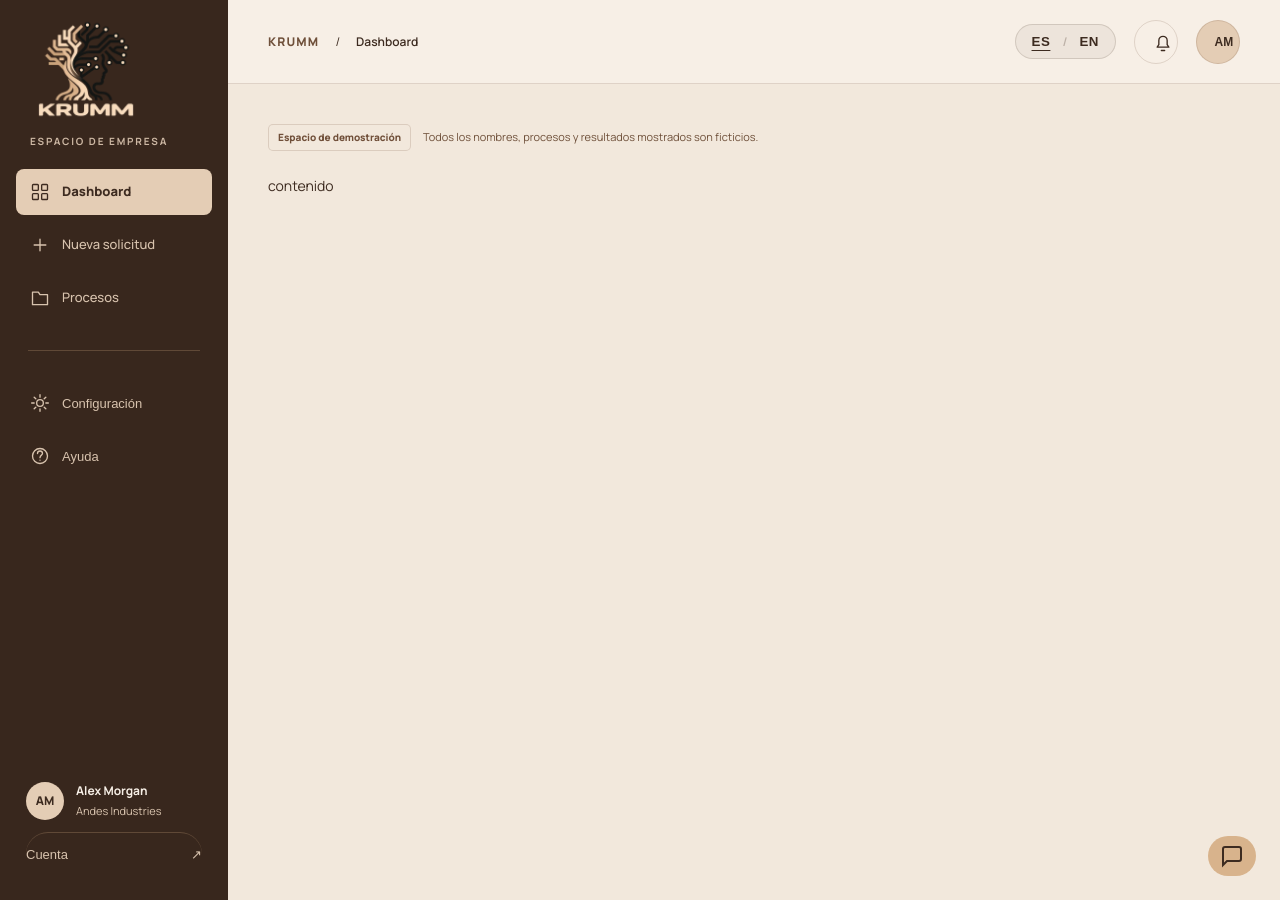
CompanyShell (ref company.html) › Settings/Help/Notifications/Account abren diálogos "próxima etapa" (referencia company.js)
The image size is (1280, 900).
Click the button "Configuración". click: (114, 403)
box: [16, 380, 212, 426]
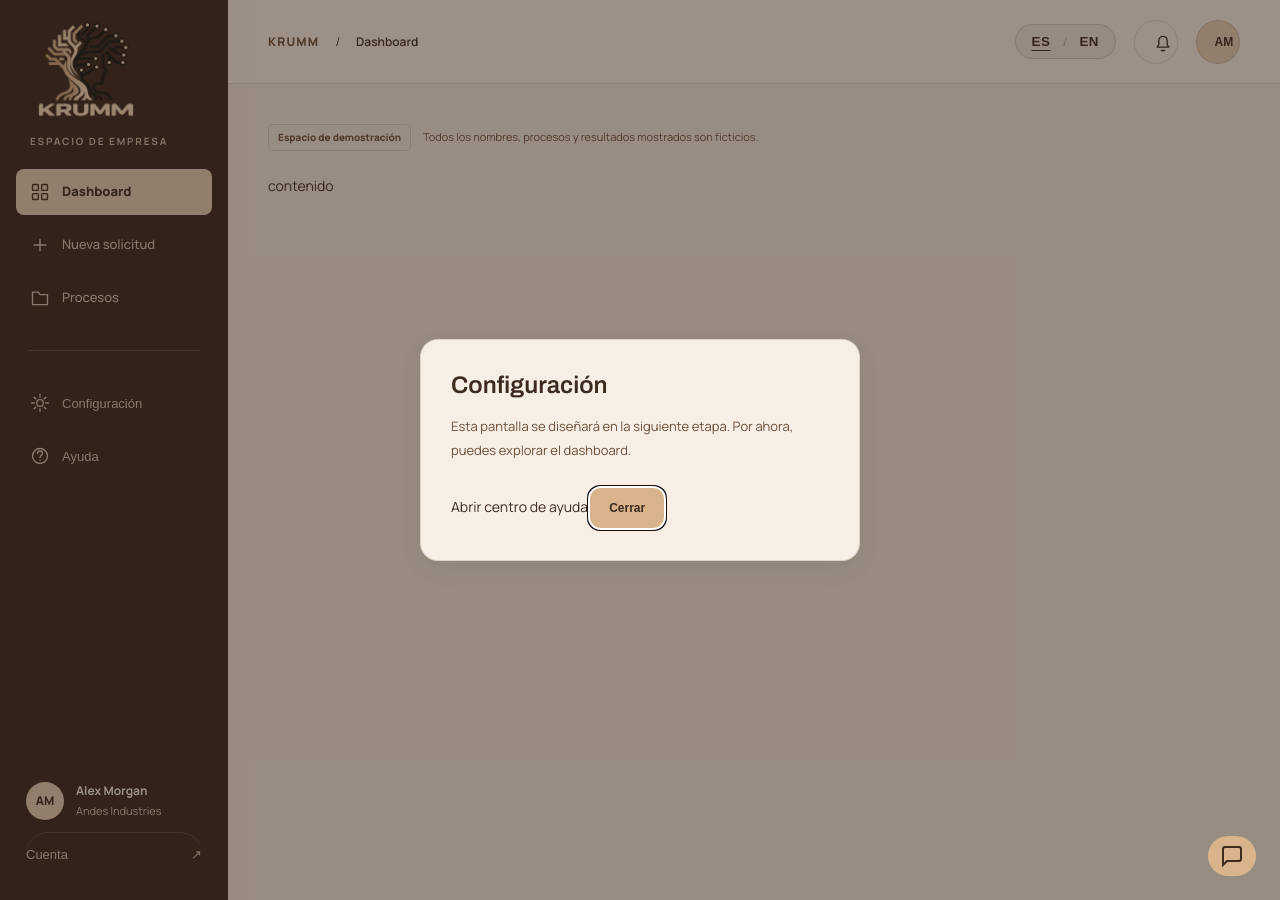
Now the heading "Configuración" is shown, box [451, 372, 608, 398]
Now the text "Esta pantalla se diseñará en la siguiente etapa. Por ahora, puedes explorar el dashboard." is shown, box [451, 417, 793, 459]
Press Escape
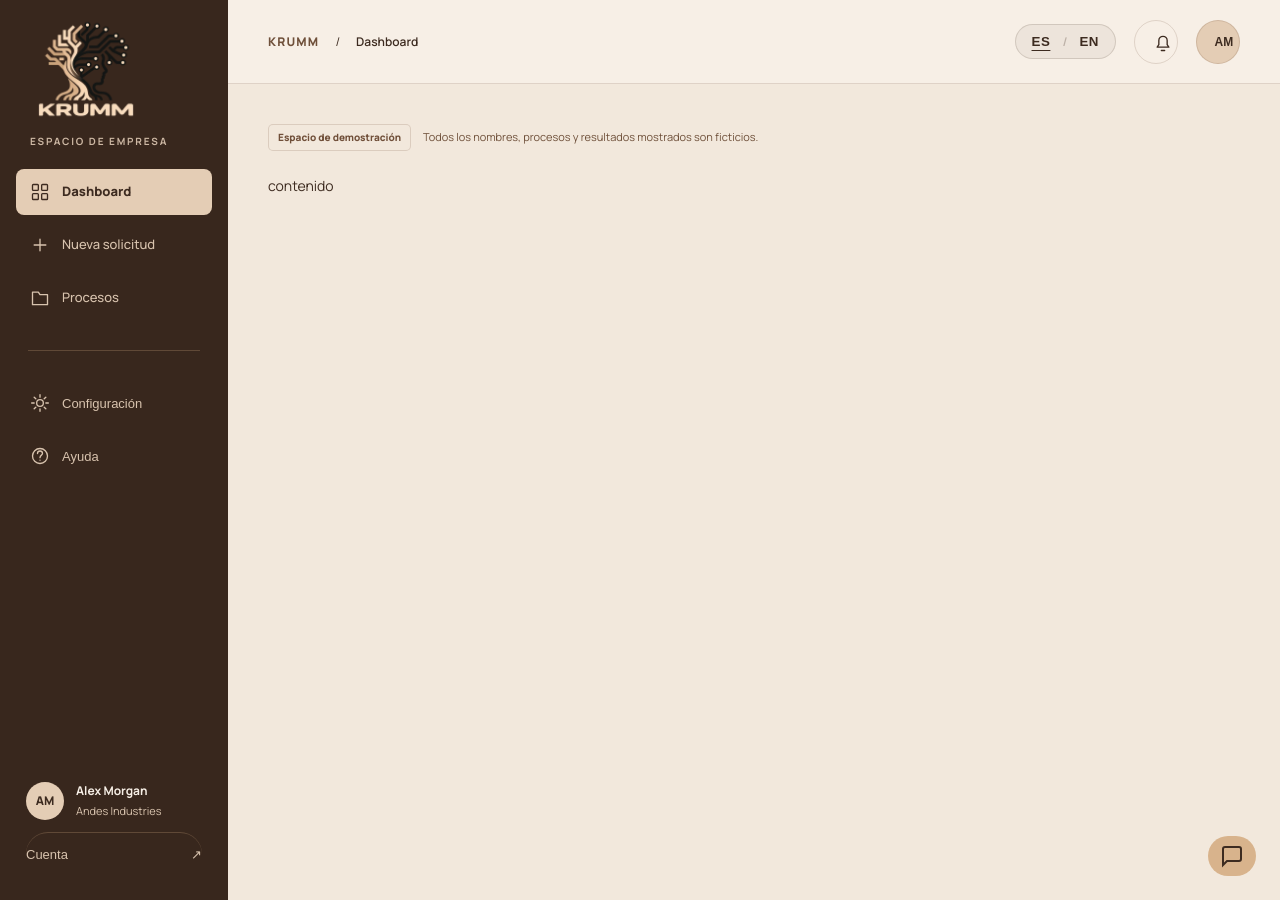
Click the button named "Notificaciones". click: (1156, 42)
box: [1134, 20, 1178, 64]
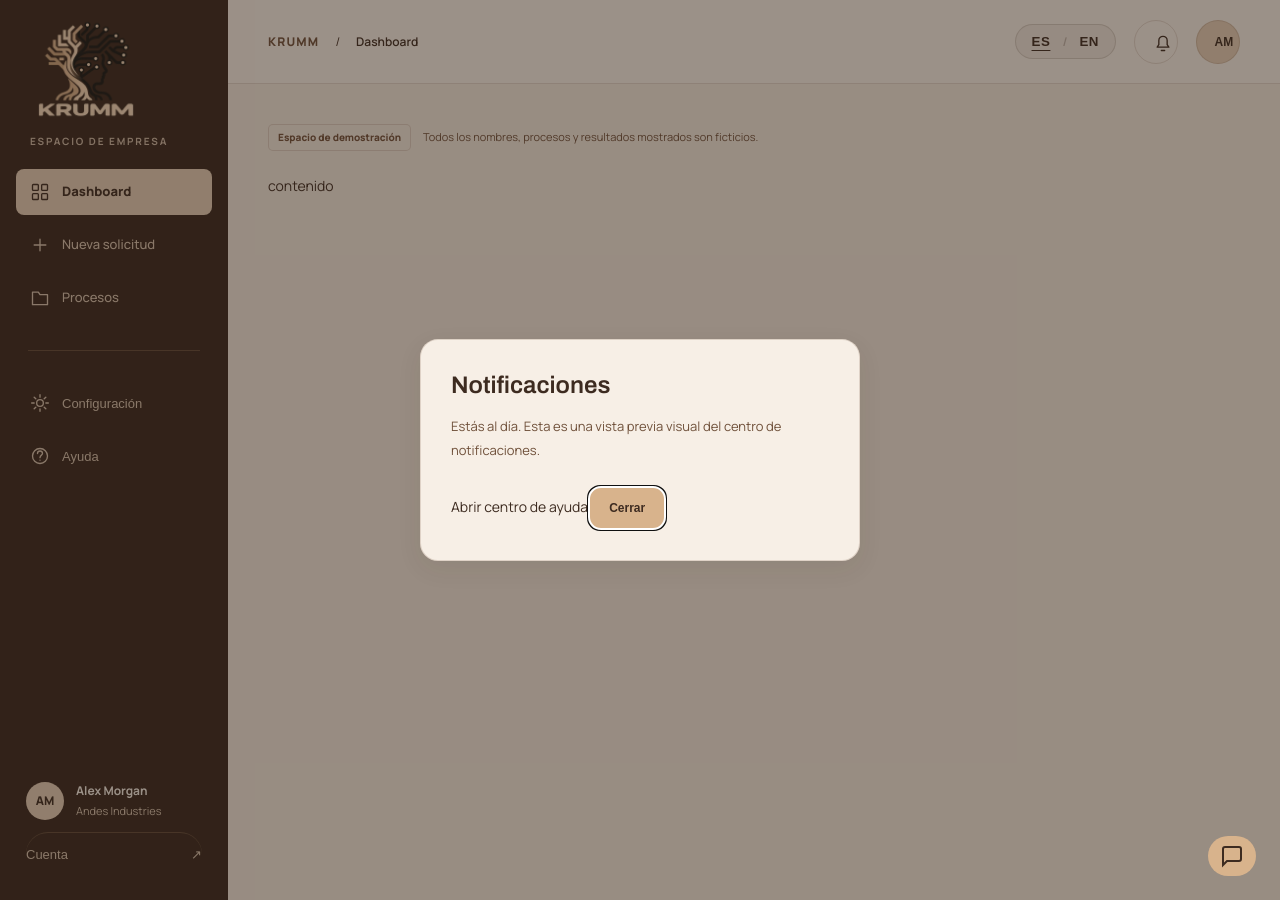
Now the text "Estás al día. Esta es una vista previa visual del centro de notificaciones." is shown, box [451, 415, 829, 462]
Press Escape
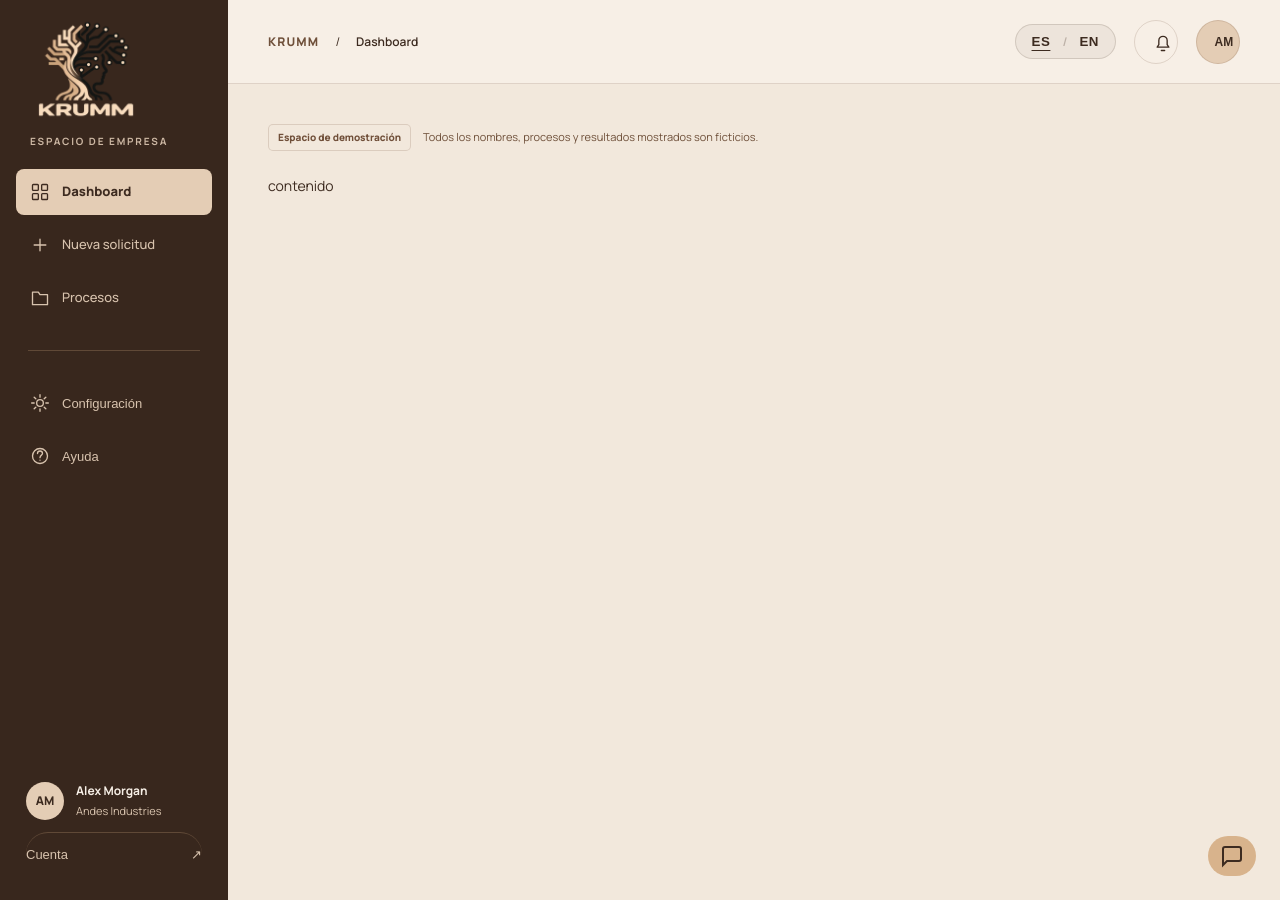
Click the button "Cuenta ↗". click: (114, 854)
box: [26, 832, 202, 876]
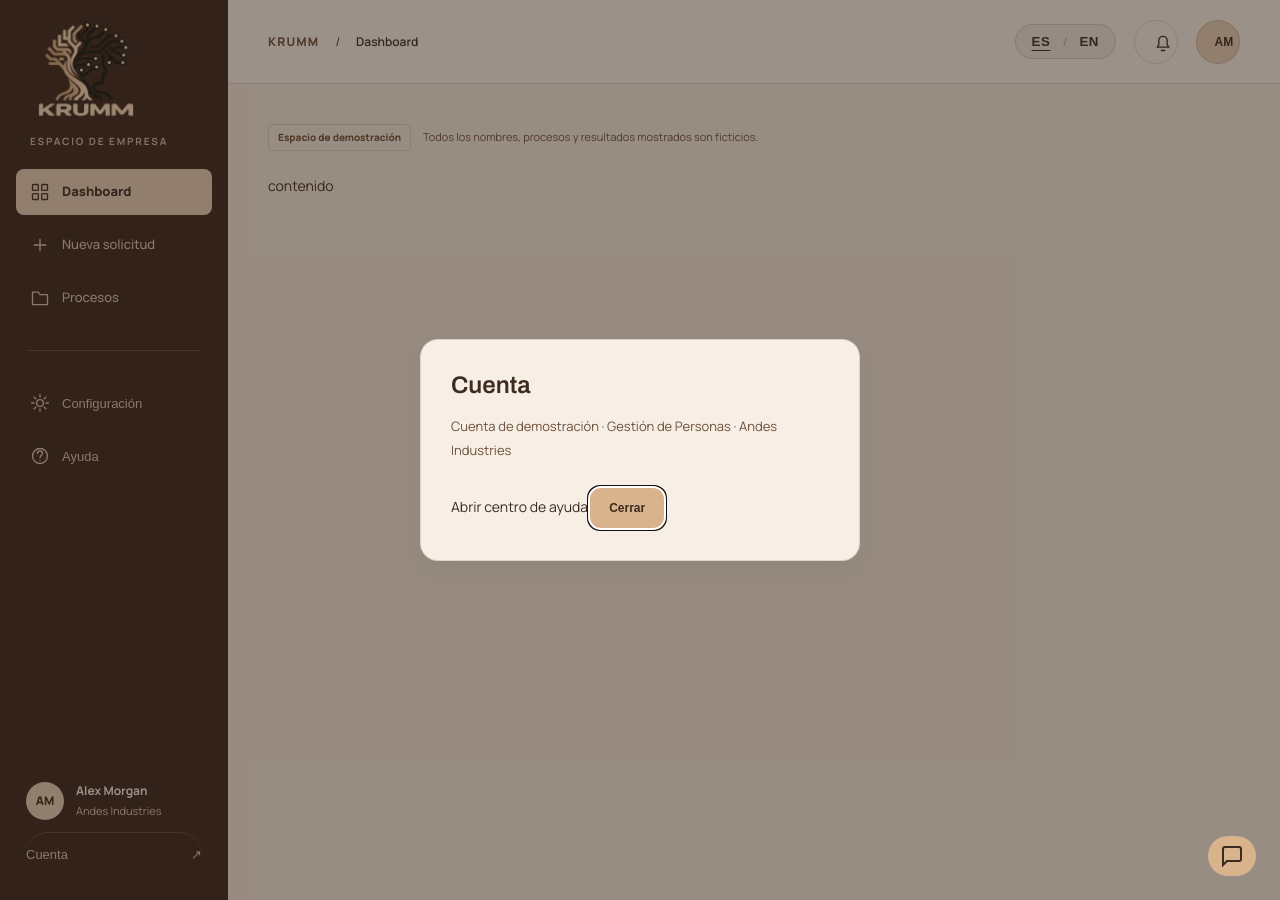
Now the text "Cuenta de demostración · Gestión de Personas · Andes Industries" is shown, box [451, 415, 829, 462]
